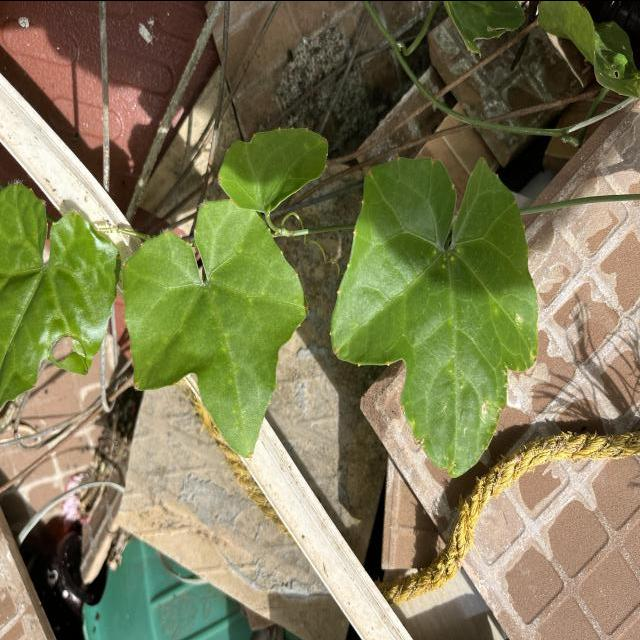Coccinia grandis: (328, 152, 542, 484), (119, 196, 309, 462)
